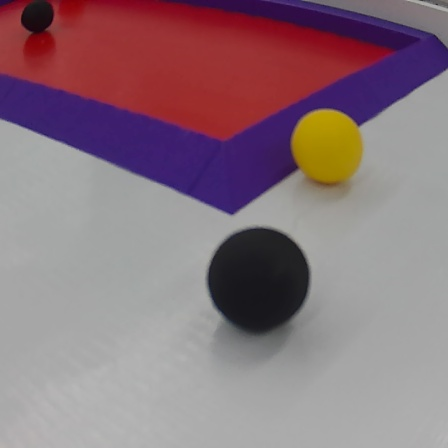black: (205, 225, 313, 338), (19, 0, 59, 35)
red_aim: (0, 0, 445, 219)
yellow: (288, 103, 369, 184)
